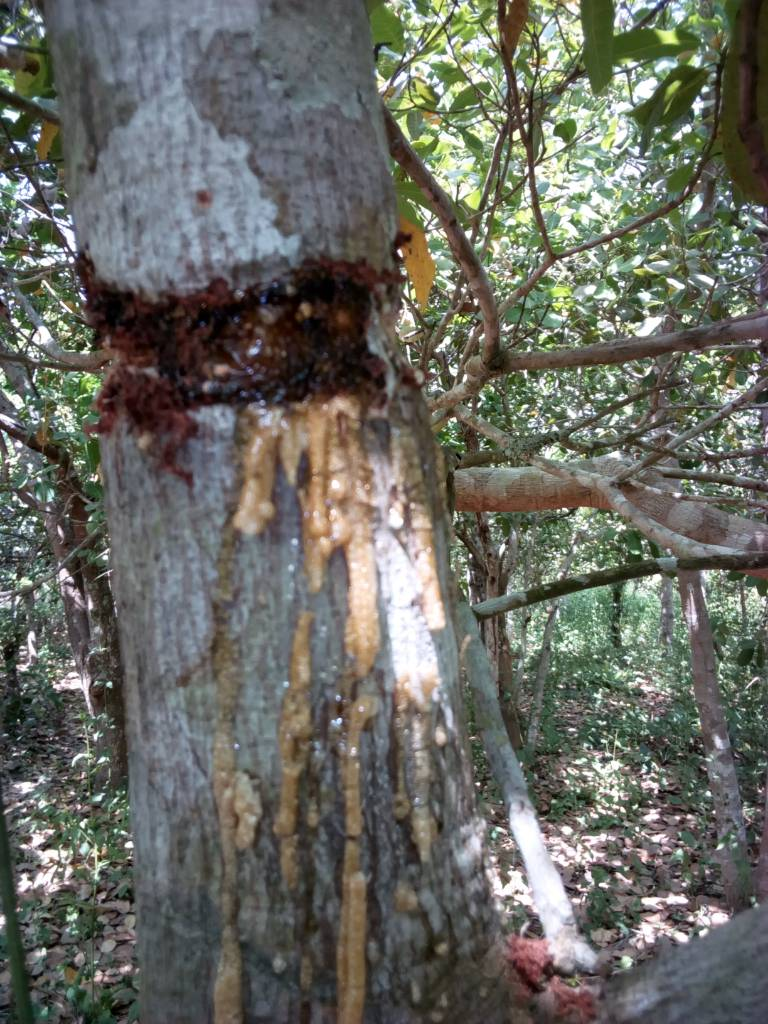Analepse trifasciata: (50, 247, 455, 458)
